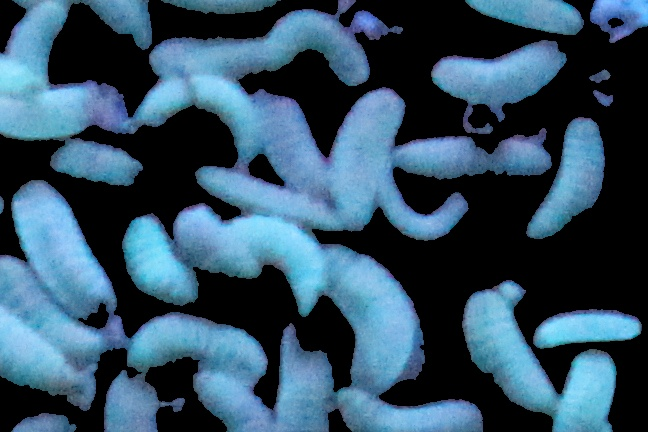larvae: (317, 245, 418, 390), (13, 181, 119, 316), (460, 290, 547, 420), (1, 255, 101, 362), (430, 28, 568, 105), (134, 72, 257, 158), (524, 113, 604, 240), (128, 314, 270, 383), (229, 215, 319, 314), (198, 169, 346, 229), (330, 88, 398, 212), (252, 92, 326, 204), (261, 10, 371, 84), (270, 319, 334, 432), (121, 213, 201, 302), (335, 385, 482, 432), (388, 138, 560, 176), (377, 168, 467, 239), (46, 136, 152, 195), (177, 205, 260, 278), (1, 84, 101, 144), (1, 309, 78, 386), (145, 31, 263, 81), (552, 350, 619, 432), (188, 374, 276, 432), (8, 3, 68, 85), (540, 304, 639, 351), (457, 1, 581, 36)
